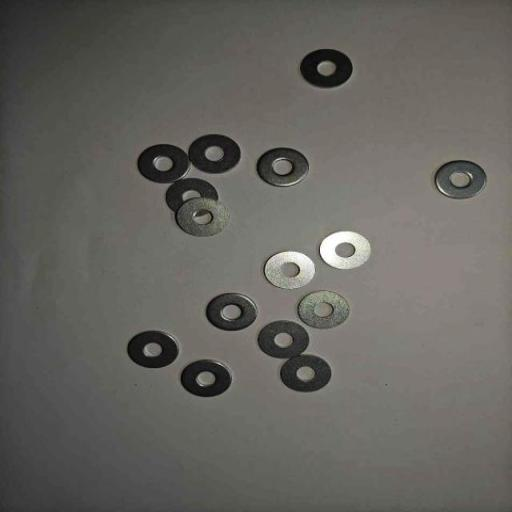washer: (299, 48, 354, 89), (175, 196, 230, 237), (188, 133, 241, 174), (257, 147, 310, 187), (137, 143, 190, 183), (434, 159, 488, 198), (126, 330, 180, 369), (319, 230, 371, 269), (298, 290, 350, 329), (206, 292, 258, 331), (263, 251, 316, 289), (181, 358, 232, 397), (258, 320, 310, 358), (280, 354, 332, 392), (166, 178, 219, 213)
